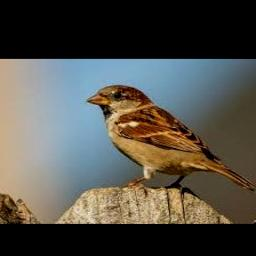Sparrow: (86, 85, 256, 191)
